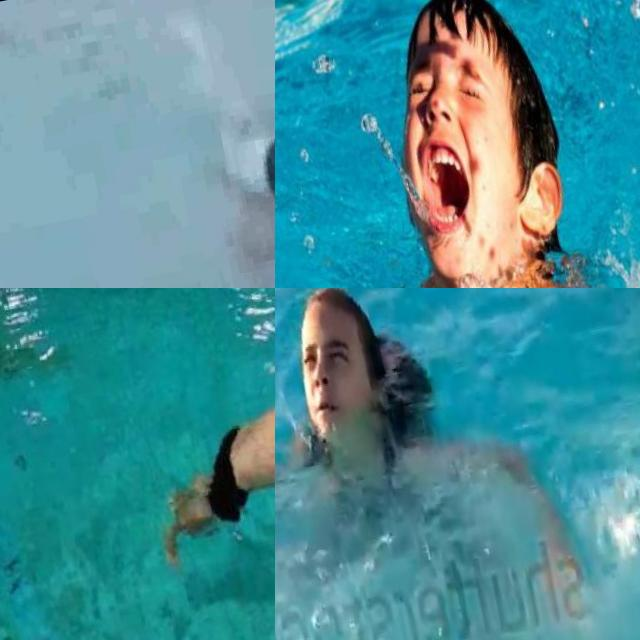drowning: (275, 0, 640, 288), (275, 288, 496, 617), (132, 368, 275, 603), (172, 86, 275, 288)
